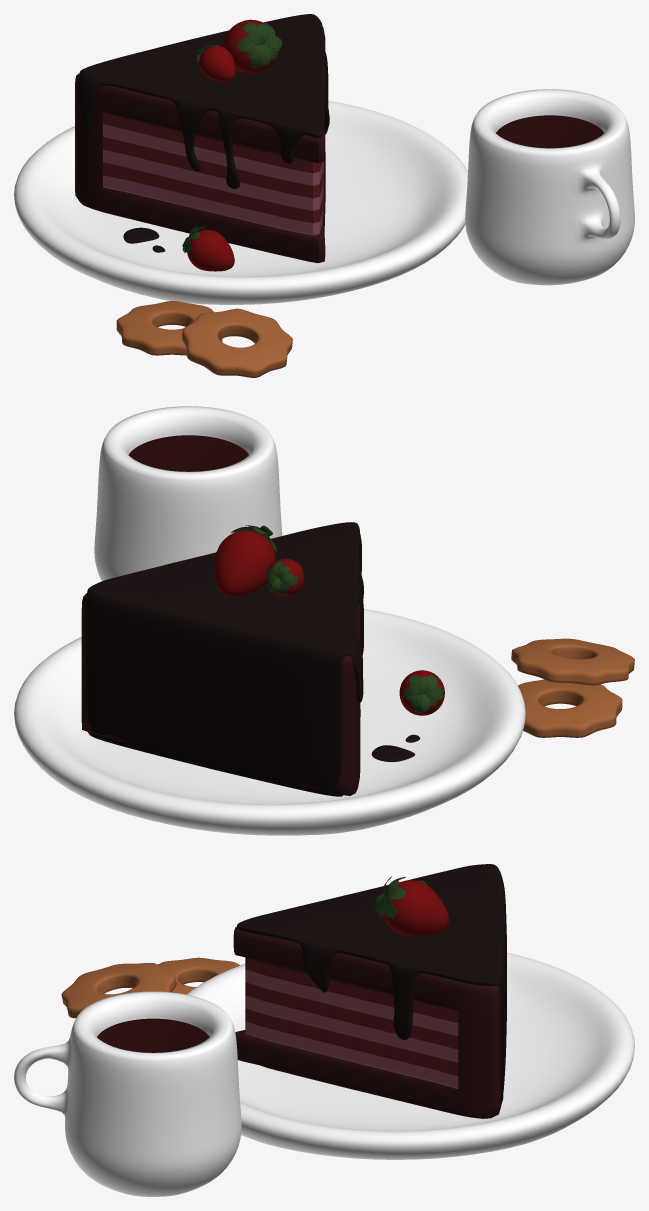
Rendered from Pastel2.fbx.
3 renders of one model, top to bottom at view 1: azimuth 30°, elevation 25°; view 2: azimuth 150°, elevation 25°; view 3: azimuth 270°, elevation 25°, orthographic. The views are drawn at different scales.
Parts seen in each view (by area): view 1: MSH_Pastel, Fresa 3, Fresa2, Fresa1; view 2: MSH_Pastel, Fresa1, Fresa 3; view 3: MSH_Pastel, Fresa1.
Part boxes in pixels (box(x1,y1,x2,y2)): MSH_Pastel: box(14, 14, 634, 377); Fresa 3: box(187, 229, 234, 271); Fresa2: box(199, 46, 235, 81); Fresa1: box(223, 19, 277, 73); MSH_Pastel: box(14, 406, 634, 835); Fresa1: box(214, 530, 275, 596); Fresa 3: box(399, 670, 444, 715); MSH_Pastel: box(14, 864, 634, 1196); Fresa1: box(382, 880, 449, 936).
Bounding box in the file's own units: 111 × 43.71 × 120.
